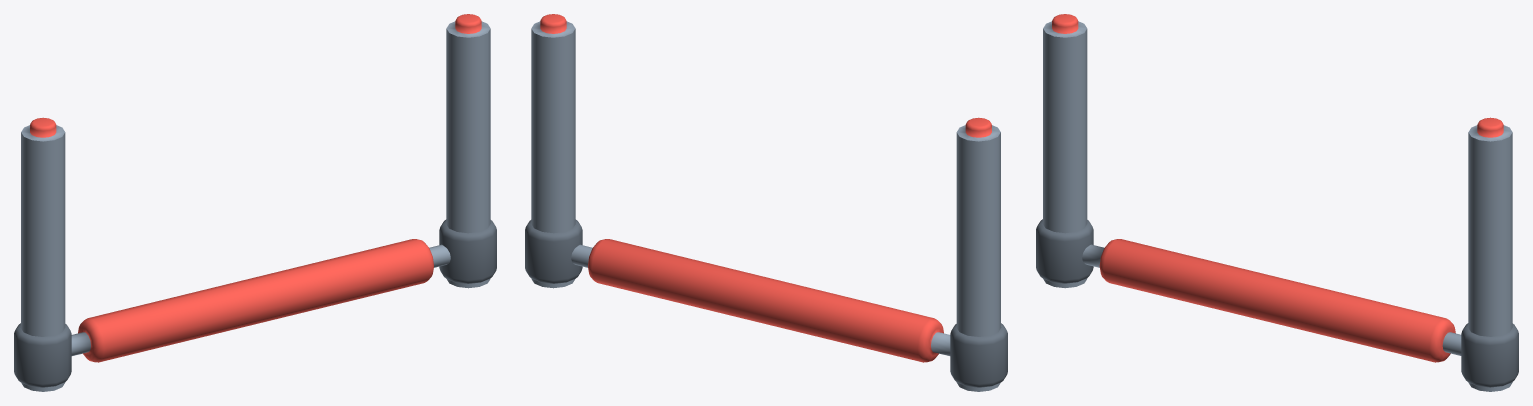
Rendered from HorizontalStickLong01.fbx.
3 renders of one model, left to right at view 1: azimuth 30°, elevation 25°; view 2: azimuth 150°, elevation 25°; view 3: azimuth 330°, elevation 25°, orthographic.
Parts seen in each view (by area): view 1: HorizontalStick.002, HorizontalStickBase.001; view 2: HorizontalStick.002, HorizontalStickBase.001; view 3: HorizontalStick.002, HorizontalStickBase.001.
Part boxes in pixels (left/top/right/bottom): HorizontalStick.002: left=14, top=219, right=496, bottom=387; HorizontalStickBase.001: left=21, top=14, right=490, bottom=391; HorizontalStick.002: left=525, top=219, right=1007, bottom=387; HorizontalStickBase.001: left=531, top=14, right=1000, bottom=391; HorizontalStick.002: left=1036, top=219, right=1518, bottom=387; HorizontalStickBase.001: left=1043, top=14, right=1512, bottom=391.
Bounding box in the file's own units: 993 × 520 × 104.
